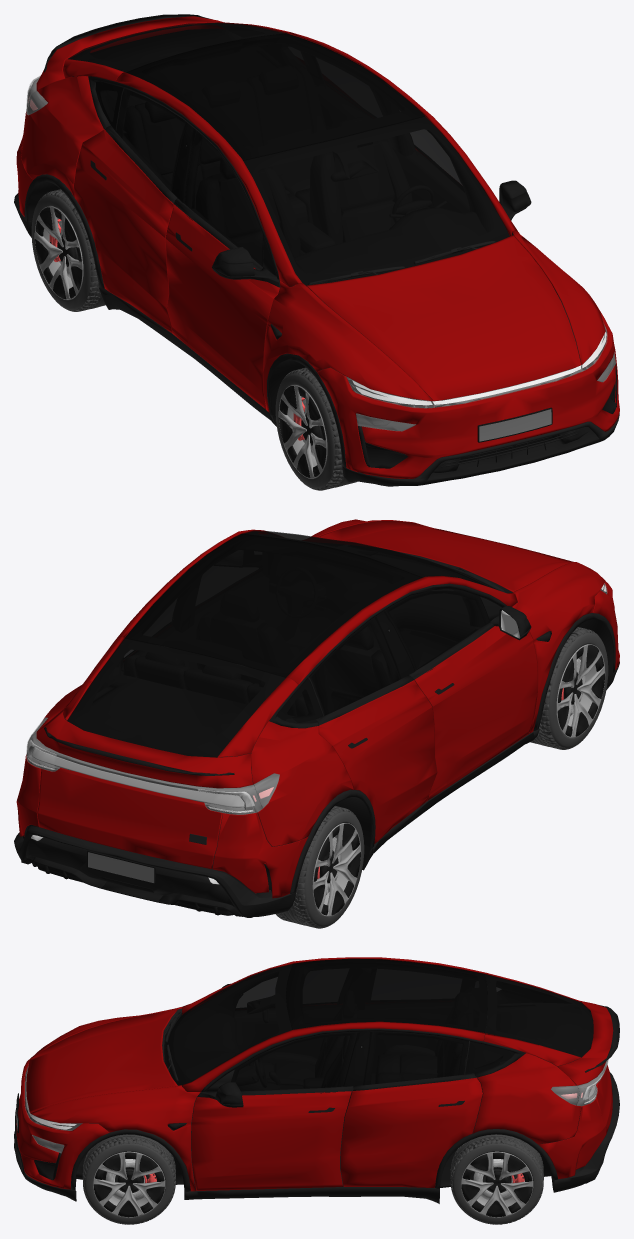
File: 2026_tesla_model_y_performance.glb
3 renders of one model, top to bottom at view 1: azimuth 30°, elevation 25°; view 2: azimuth 150°, elevation 25°; view 3: azimuth 270°, elevation 25°, orthographic. The views are drawn at different scales.
Parts seen in each view (by area): view 1: Object_5, Object_33, Object_9, Object_3, Object_38, Object_19, Object_17, Object_32, Object_10, Object_7, Object_39, Object_13 (+1 smaller); view 2: Object_5, Object_33, Object_9, Object_3, Object_38, Object_19, Object_17, Object_39, Object_32, Object_4, Object_13, Object_8; view 3: Object_5, Object_33, Object_9, Object_3, Object_19, Object_38, Object_17, Object_32, Object_39, Object_8, Object_14, Object_10.
Part boxes in pixels (x1,y1,x2,y2): Object_5: [16, 16, 619, 478]; Object_33: [14, 23, 619, 486]; Object_9: [68, 22, 509, 285]; Object_3: [126, 33, 424, 160]; Object_38: [44, 14, 617, 484]; Object_19: [31, 189, 357, 490]; Object_17: [27, 76, 327, 478]; Object_32: [27, 124, 613, 441]; Object_10: [346, 325, 607, 407]; Object_7: [352, 332, 606, 405]; Object_39: [26, 75, 615, 431]; Object_13: [479, 409, 551, 441]; Object_5: [16, 519, 619, 898]; Object_33: [14, 531, 619, 917]; Object_9: [67, 530, 489, 757]; Object_3: [125, 533, 422, 677]; Object_38: [32, 583, 575, 916]; Object_19: [275, 627, 608, 928]; Object_17: [27, 630, 605, 916]; Object_39: [26, 717, 279, 814]; Object_32: [206, 584, 613, 891]; Object_4: [31, 747, 244, 807]; Object_13: [88, 852, 154, 882]; Object_8: [375, 611, 415, 678]; Object_5: [16, 957, 613, 1191]; Object_33: [15, 965, 619, 1217]; Object_9: [164, 964, 593, 1091]; Object_3: [286, 958, 487, 1032]; Object_19: [82, 1134, 543, 1224]; Object_38: [14, 970, 619, 1183]; Object_17: [93, 1046, 603, 1217]; Object_32: [25, 1032, 581, 1193]; Object_39: [32, 1059, 608, 1152]; Object_8: [343, 1032, 371, 1086]; Object_14: [106, 1159, 512, 1200]; Object_10: [24, 1065, 81, 1130].
Size of the model in its own units: 2.12 by 1.65 by 4.78.
Materials: 22 (1 with a texture image).
